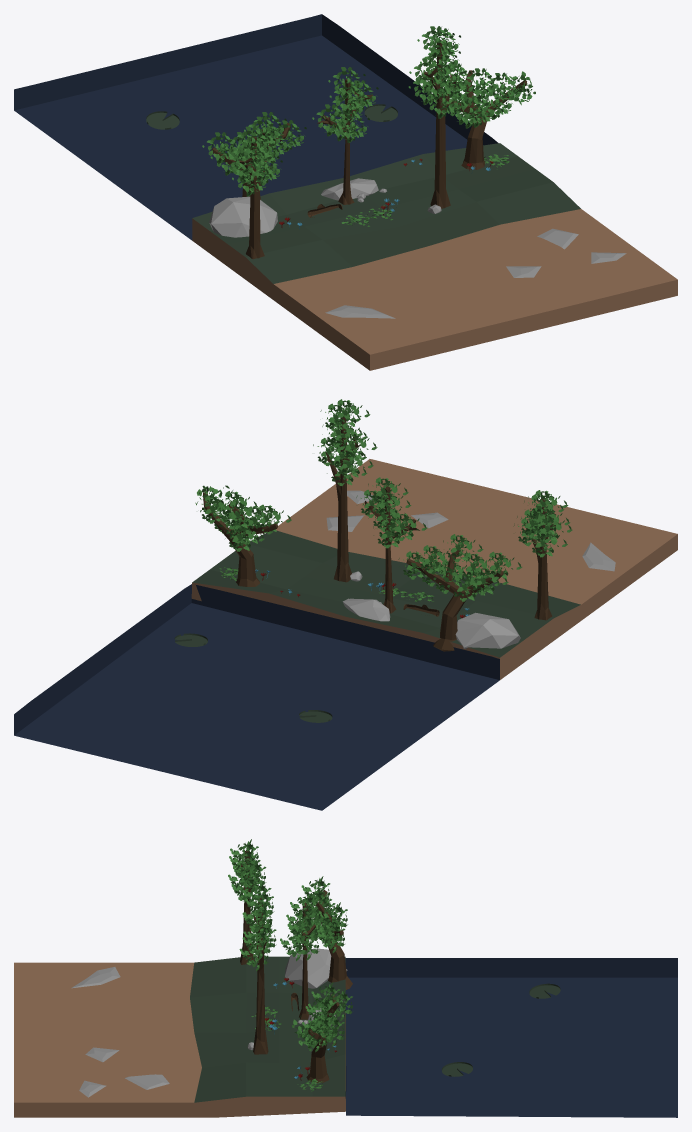
File: FLORESTA 3 100_ OFICIAL.fbx
The picture shows the model from 3 angles, top to bottom: view 1: azimuth 30°, elevation 25°; view 2: azimuth 150°, elevation 25°; view 3: azimuth 270°, elevation 25°; orthographic projection. The views are drawn at different scales.
Visible parts, largest first — view 1: Base.005, rio.007, Icosphere, caminhoo.001, tronco 5.002, tronco.004, tronco 2.001, tronco 3.008, Icosphere.001; view 2: rio.007, Base.005, Icosphere, tronco.003, tronco 5.002, caminhoo.001, tronco.004, tronco 2.001, tronco 3.008, Icosphere.001; view 3: rio.007, Base.005, caminhoo.001, Icosphere, tronco 5.002, tronco.004, tronco.003, tronco 3.008, tronco 2.001.
Boxes of the visible parts, x1=… form: Base.005: x1=192, y1=143, x2=677, y2=370; rio.007: x1=14, y1=14, x2=498, y2=240; Icosphere: x1=209, y1=196, x2=277, y2=237; caminhoo.001: x1=325, y1=228, x2=626, y2=318; tronco 5.002: x1=424, y1=40, x2=457, y2=208; tronco.004: x1=432, y1=70, x2=526, y2=169; tronco 2.001: x1=239, y1=136, x2=272, y2=259; tronco 3.008: x1=317, y1=79, x2=372, y2=204; Icosphere.001: x1=321, y1=178, x2=378, y2=200; rio.007: x1=14, y1=584, x2=499, y2=810; Base.005: x1=191, y1=459, x2=677, y2=679; Icosphere: x1=455, y1=612, x2=520, y2=648; tronco.003: x1=406, y1=550, x2=503, y2=651; tronco 5.002: x1=322, y1=417, x2=359, y2=582; caminhoo.001: x1=326, y1=490, x2=615, y2=571; tronco.004: x1=203, y1=492, x2=277, y2=586; tronco 2.001: x1=525, y1=499, x2=558, y2=620; tronco 3.008: x1=364, y1=486, x2=419, y2=613; Icosphere.001: x1=342, y1=598, x2=390, y2=621; rio.007: x1=345, y1=958, x2=677, y2=1117; Base.005: x1=14, y1=956, x2=345, y2=1117; caminhoo.001: x1=71, y1=967, x2=169, y2=1097; Icosphere: x1=285, y1=948, x2=347, y2=988; tronco 5.002: x1=253, y1=898, x2=268, y2=1054; tronco.004: x1=306, y1=994, x2=339, y2=1082; tronco.003: x1=316, y1=890, x2=352, y2=989; tronco 3.008: x1=297, y1=902, x2=315, y2=1019; tronco 2.001: x1=240, y1=851, x2=254, y2=964.
Bounding box in the file's own units: 1104 × 618 × 2002.
Materials: 25 (25 with a texture image).
